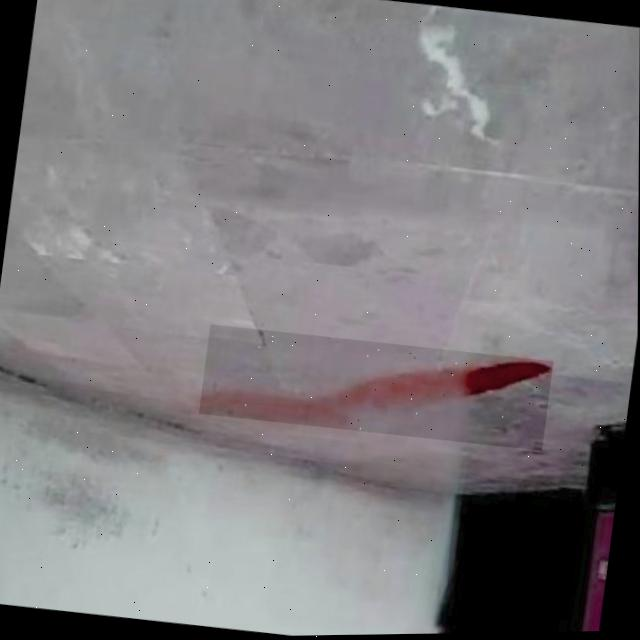spillage: (201, 361, 552, 423)
